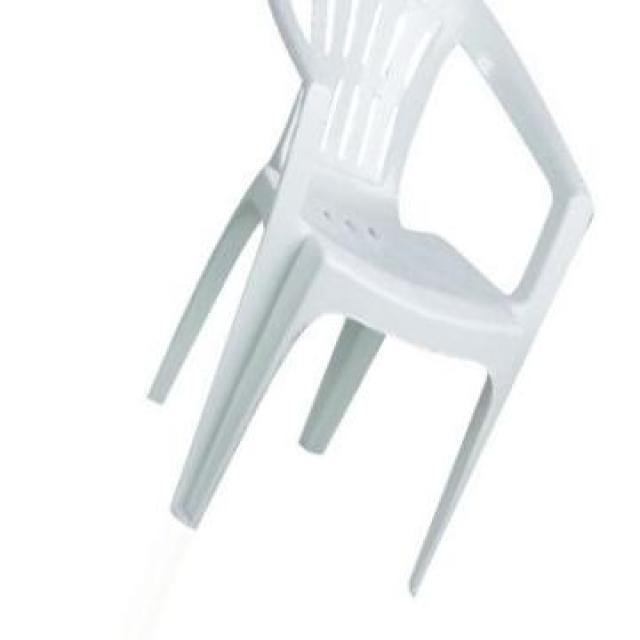chair: (148, 2, 596, 600)
